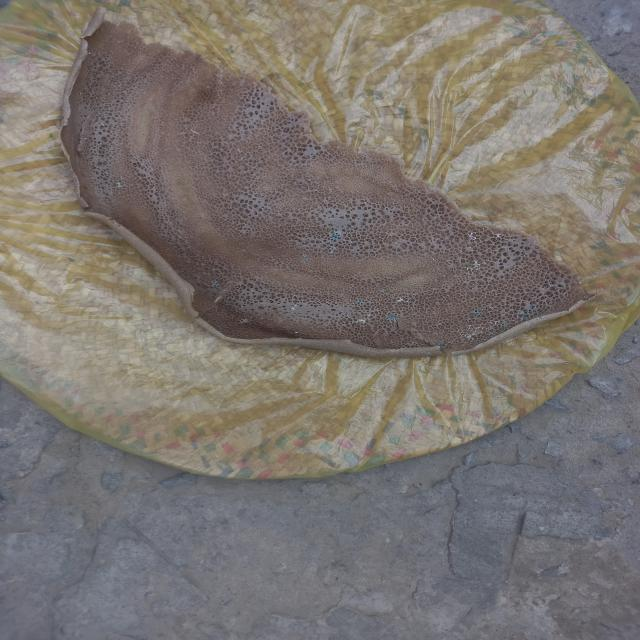injera_mold: (458, 323, 482, 340), (462, 256, 487, 272), (467, 229, 484, 243), (351, 314, 370, 325), (384, 310, 400, 322), (234, 316, 252, 326), (496, 320, 512, 329), (486, 330, 498, 341), (328, 231, 341, 240), (473, 308, 484, 318), (209, 280, 221, 287), (328, 246, 338, 254), (519, 311, 529, 319), (302, 253, 310, 260), (438, 340, 447, 346), (116, 182, 124, 188), (396, 298, 405, 302), (356, 300, 364, 304), (378, 289, 386, 292), (294, 331, 299, 334), (291, 308, 296, 310), (406, 300, 408, 302)
